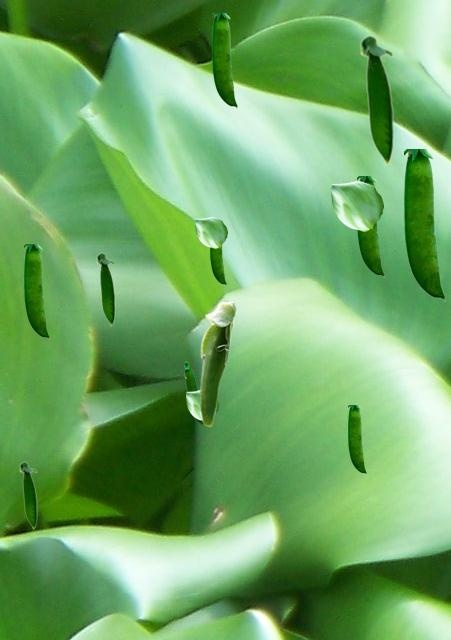pea: (404, 149, 444, 300), (199, 300, 236, 426), (359, 34, 393, 166), (357, 176, 383, 276), (24, 244, 48, 338), (212, 13, 236, 107), (96, 252, 114, 326), (348, 405, 365, 473), (19, 461, 36, 529), (184, 361, 201, 423), (210, 245, 225, 284)
